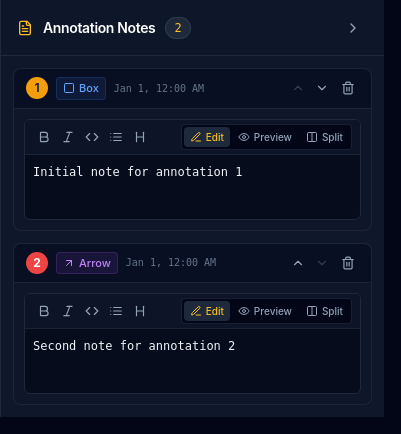
Test: NotesSidebar Component Test Suite › Suite 4: Reordering & Boundary Disabling › T4.6: Clicking Move Up on second card swaps position and updates sequence numbers
Click the button with test id "note-card-move-up-2" at (298, 263), box [287,252,309,274]
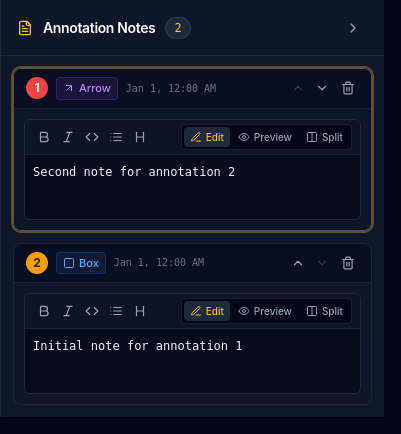
Check: the text with test id "card-badge-ann_2" reads "1", box [34,80,40,95]
Check: the text with test id "card-badge-ann_1" reads "2", box [33,255,41,270]
